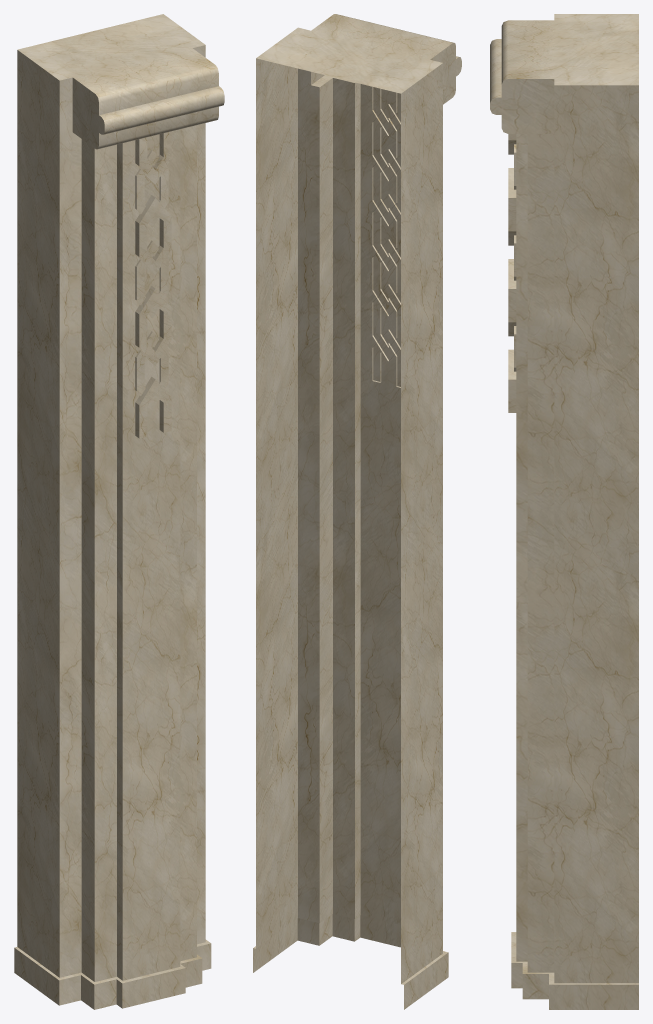
The picture shows the model from 3 angles, left to right: view 1: azimuth 30°, elevation 25°; view 2: azimuth 150°, elevation 25°; view 3: azimuth 270°, elevation 25°; orthographic projection.
Visible parts, largest first — view 1: M_W_201_a_1x6; view 2: M_W_201_a_1x6; view 3: M_W_201_a_1x6.
Part boxes in pixels (x1=…): M_W_201_a_1x6: x1=14, y1=14, x2=224, y2=1009; M_W_201_a_1x6: x1=253, y1=14, x2=461, y2=1009; M_W_201_a_1x6: x1=490, y1=14, x2=638, y2=1009.
Size of the model in its own units: 1.04 by 6.03 by 0.8813.
